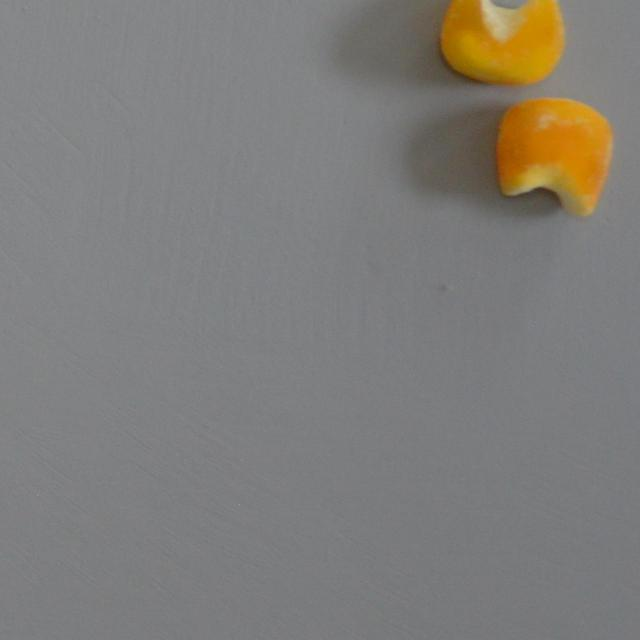no_canjicado: (438, 0, 564, 86)
pelicula: (496, 97, 613, 217)
